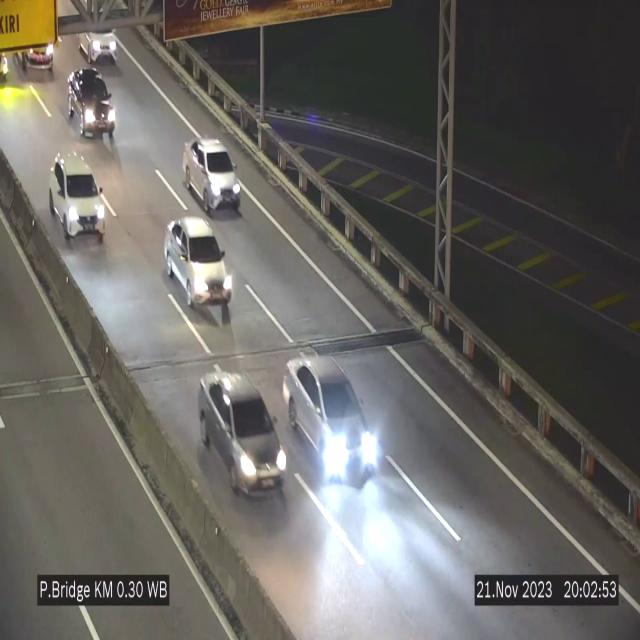Car: (281, 356, 379, 484), (198, 372, 288, 496), (164, 217, 232, 314), (50, 154, 106, 240), (183, 138, 241, 216), (69, 68, 119, 146)
